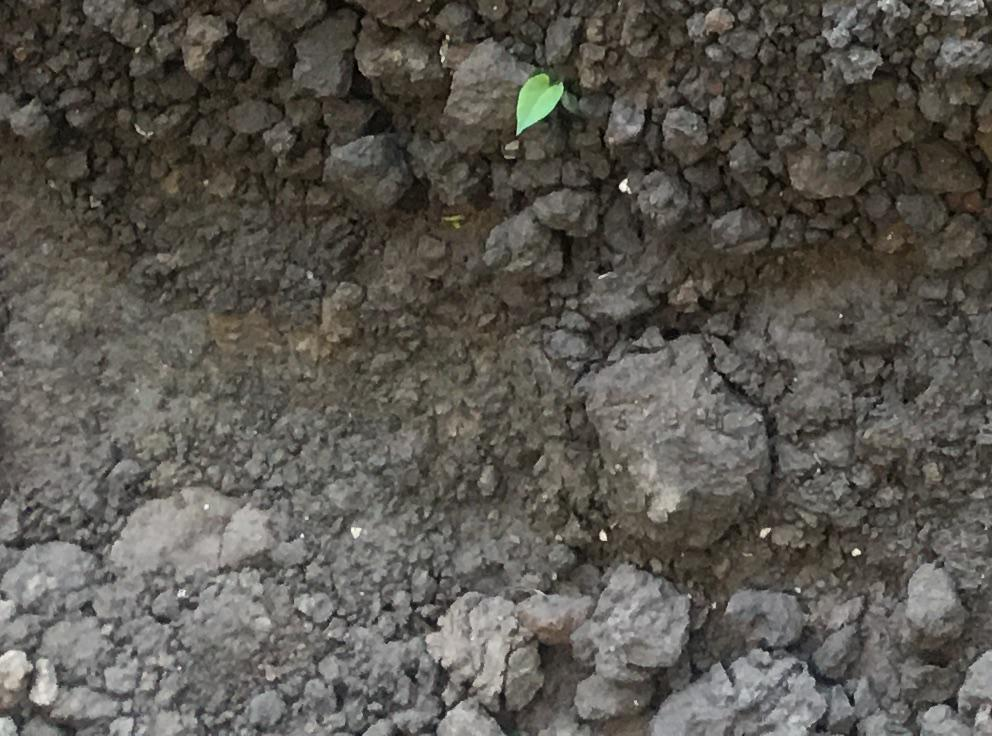block: (582, 334, 760, 545), (577, 565, 679, 675), (435, 40, 541, 129)
